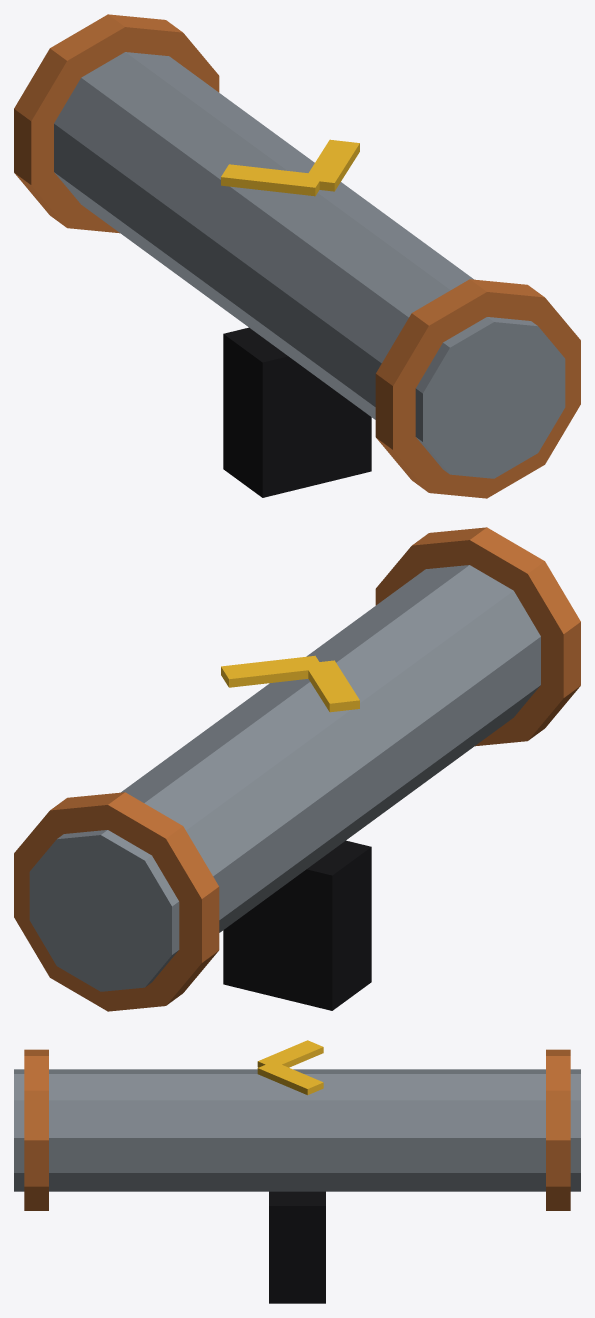
Rendered from pipe_straight.obj.
The picture shows the model from 3 angles, top to bottom: view 1: azimuth 30°, elevation 25°; view 2: azimuth 150°, elevation 25°; view 3: azimuth 270°, elevation 25°; orthographic projection. The views are drawn at different scales.
Parts seen in each view (by area): view 1: Pipe, Arrows; view 2: Pipe, Arrows; view 3: Pipe, Arrows.
Boxes of the visible parts, <box> form: Pipe: <box>14,14,580,498</box>; Arrows: <box>221,139,359,196</box>; Pipe: <box>14,527,580,1011</box>; Arrows: <box>221,655,359,712</box>; Pipe: <box>14,1049,580,1303</box>; Arrows: <box>257,1040,323,1095</box>.
Bounding box in the file's own units: 0.2758 × 0.445 × 1.
